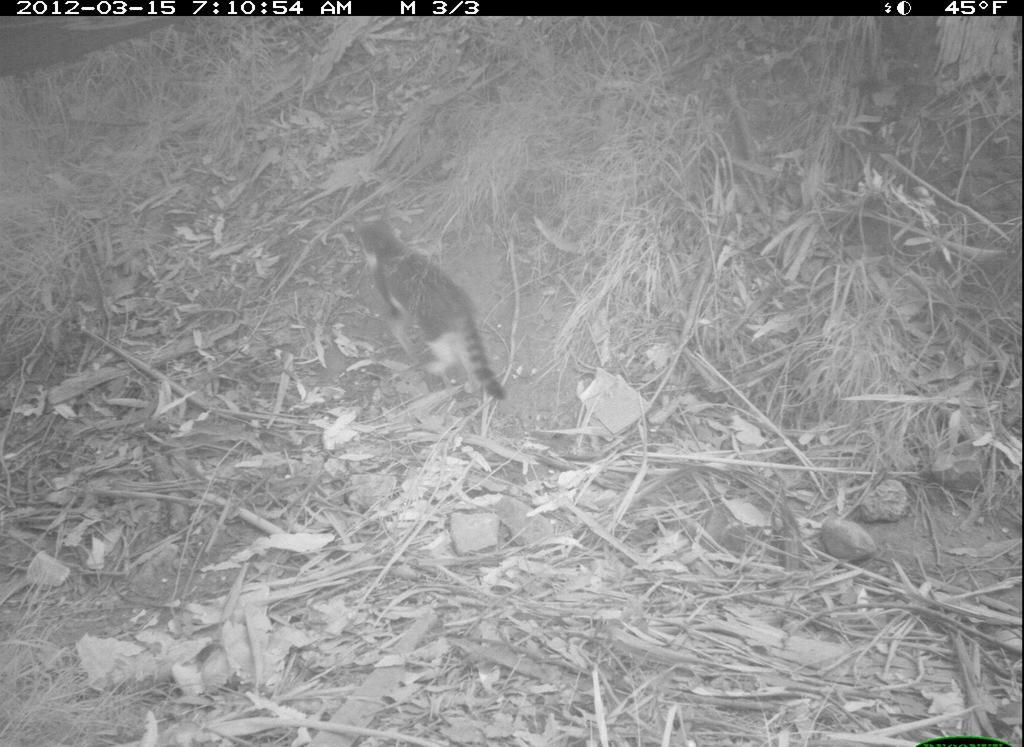cat: (346, 204, 518, 405)
